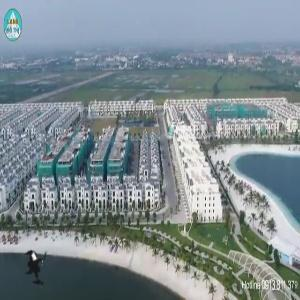drone: (10, 239, 69, 298)
